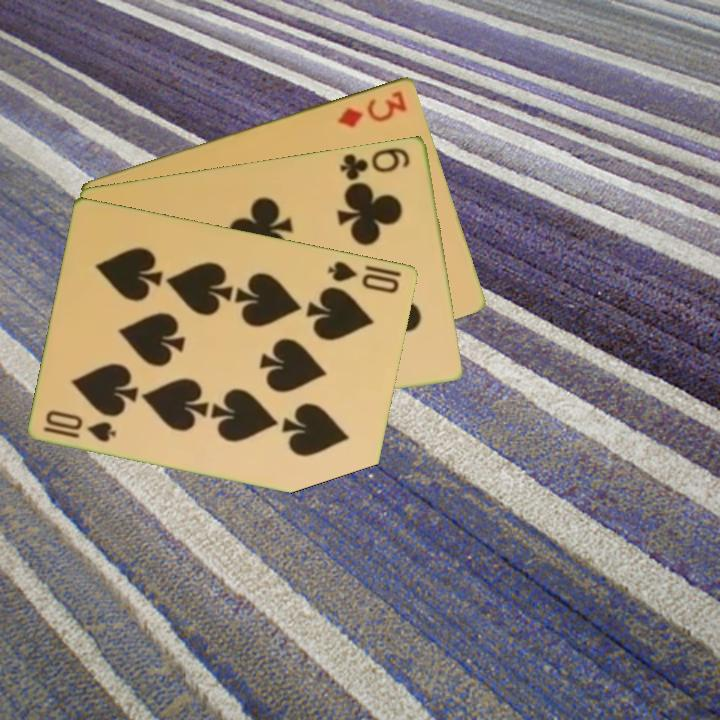10s: (40, 406, 120, 445), (325, 257, 403, 296)
3d: (334, 86, 410, 130)
6c: (336, 143, 413, 183)
